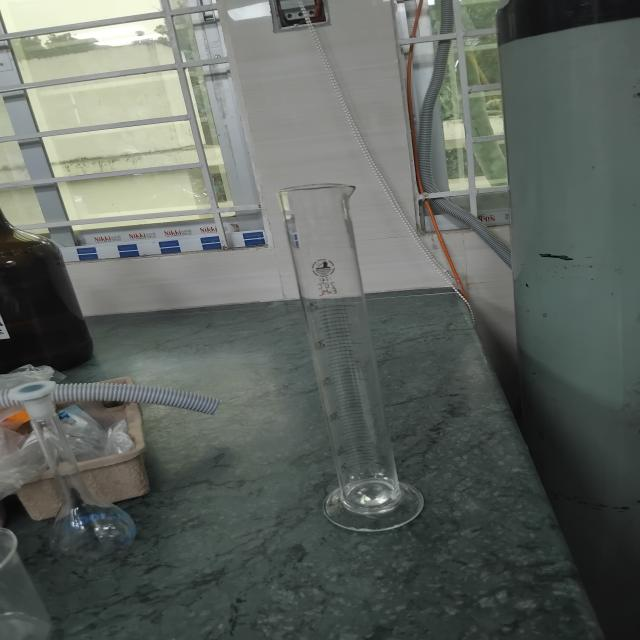Measuring_Cylinder: (238, 132, 472, 568)
Volumetric_Flask: (0, 366, 158, 571)
